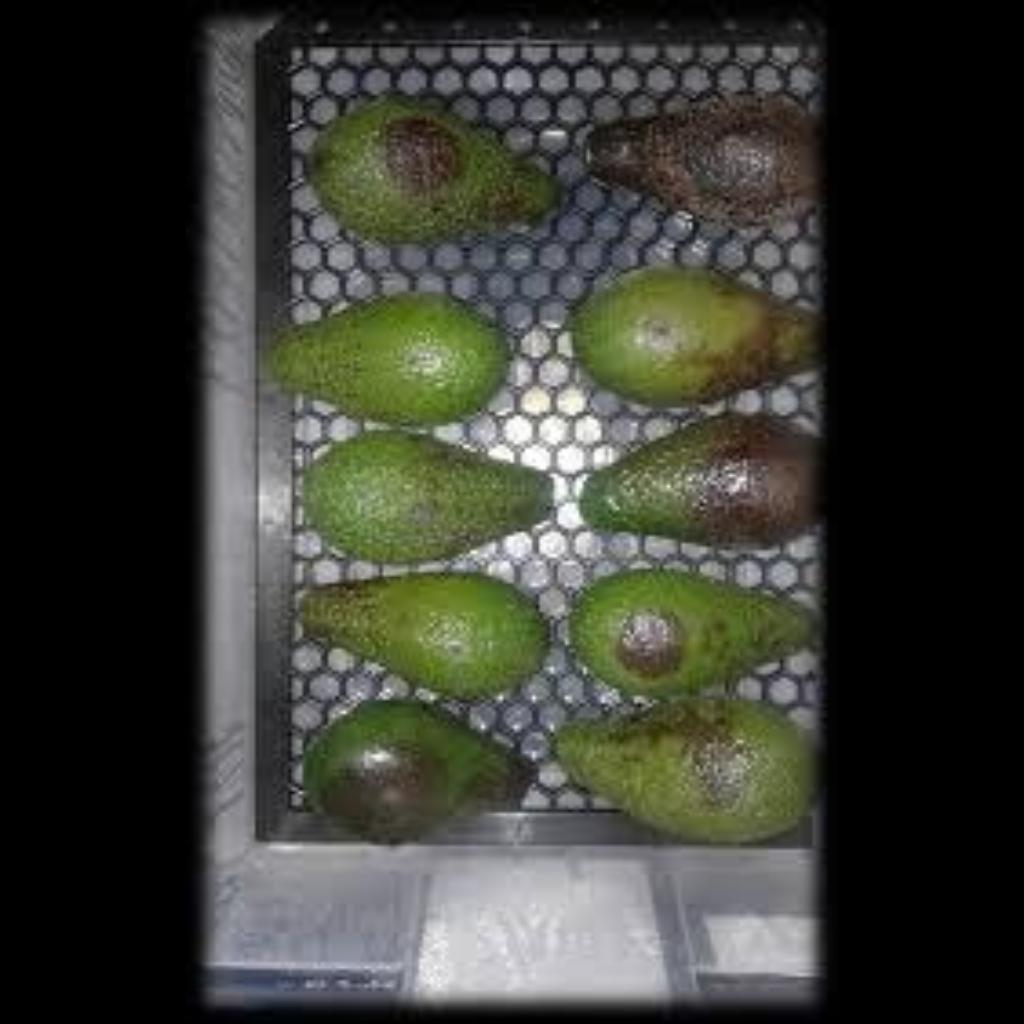Anthracnose: (594, 405, 816, 543), (290, 693, 490, 831), (290, 87, 504, 215), (603, 268, 829, 384), (586, 109, 818, 211), (576, 702, 794, 804)
